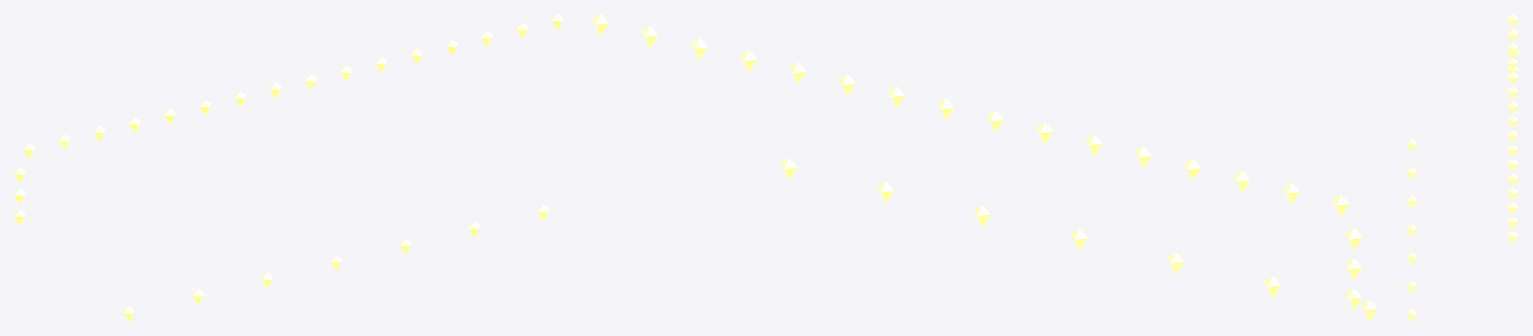
The model's file is bulbs_a.glb.
The picture shows the model from 3 angles, left to right: view 1: azimuth 30°, elevation 25°; view 2: azimuth 150°, elevation 25°; view 3: azimuth 270°, elevation 25°; orthographic projection. The views are drawn at different scales.
Parts seen in each view (by area): view 1: bulbs; view 2: bulbs; view 3: bulbs.
Boxes of the visible parts, x1,y1,x2,y2 form: bulbs: [14, 14, 563, 321]; bulbs: [592, 14, 1377, 321]; bulbs: [1406, 14, 1518, 321].
Size of the model in its own units: 7.59 by 1.91 by 1.6.
